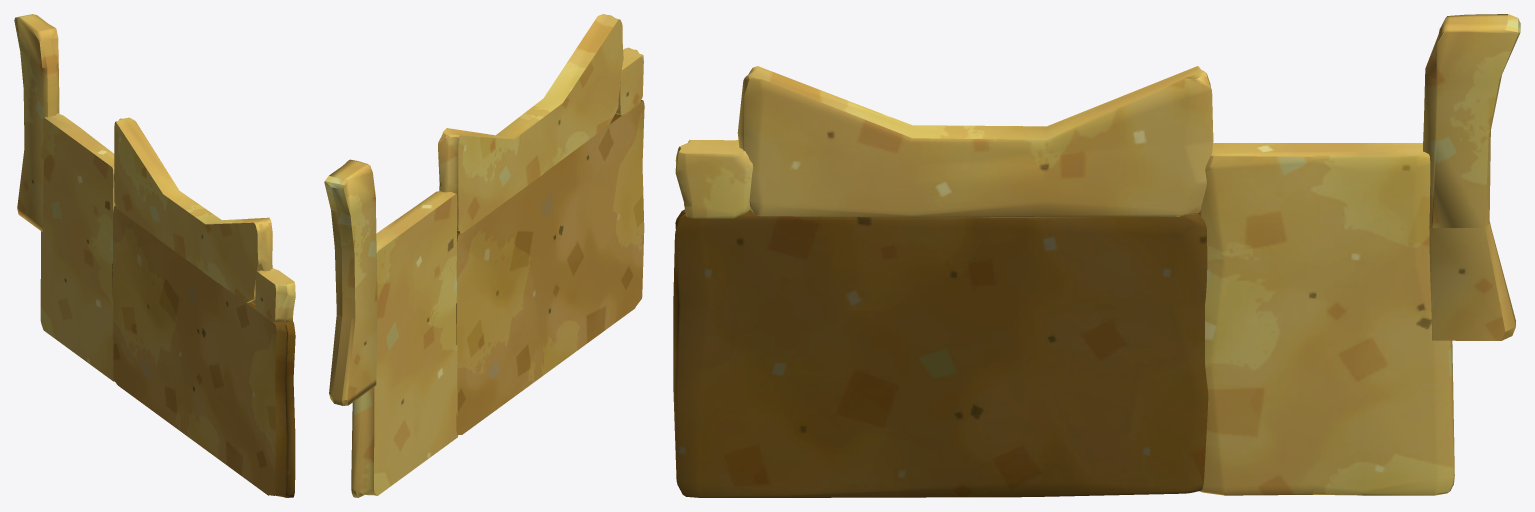
The model's file is step cover.obj.
3 views of the same model, side by side, from view 1: azimuth 30°, elevation 25°; view 2: azimuth 150°, elevation 25°; view 3: azimuth 270°, elevation 25° (orthographic). The views are drawn at different scales.
Parts seen in each view (by area): view 1: polySurface4399__DanmenStone00_AI, polySurface4398__DanmenStone01_AI, polySurface4398__Uchigawa00_AI; view 2: polySurface4399__DanmenStone00_AI, polySurface4398__DanmenStone01_AI; view 3: polySurface4399__DanmenStone00_AI, polySurface4398__Uchigawa00_AI.
Boxes of the visible parts, left/top/right/bottom form: polySurface4399__DanmenStone00_AI: left=14, top=14, right=295, bottom=381; polySurface4398__DanmenStone01_AI: left=112, top=206, right=276, bottom=495; polySurface4398__Uchigawa00_AI: left=112, top=206, right=295, bottom=497; polySurface4399__DanmenStone00_AI: left=324, top=14, right=643, bottom=497; polySurface4398__DanmenStone01_AI: left=456, top=100, right=644, bottom=434; polySurface4399__DanmenStone00_AI: left=675, top=14, right=1520, bottom=495; polySurface4398__Uchigawa00_AI: left=673, top=209, right=1208, bottom=497.
Bounding box in the file's own units: 0.306 × 4.55 × 7.43.
3 materials, 3 textured.
